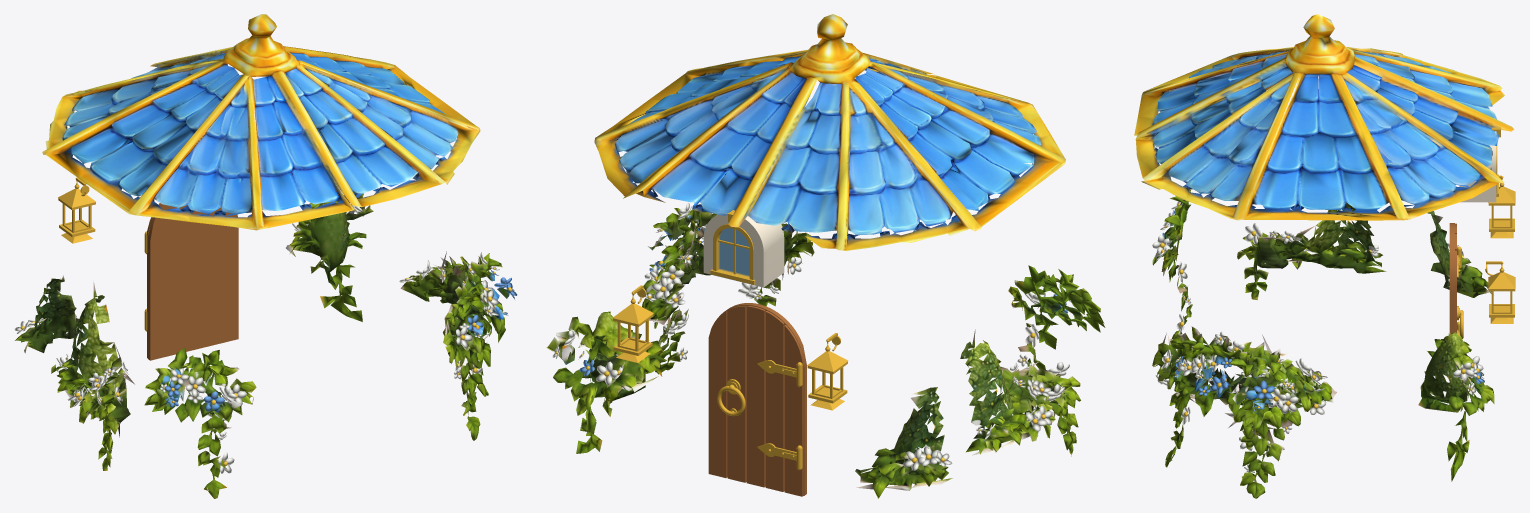
Rendered from HaloDomeHouse_07_fixed.glb.
The picture shows the model from 3 angles, left to right: view 1: azimuth 30°, elevation 25°; view 2: azimuth 150°, elevation 25°; view 3: azimuth 270°, elevation 25°; orthographic projection. The views are drawn at different scales.
Visible parts, largest first — view 1: HaloDomeHouse_07_Roof, Orn_H07_Leaf, HaloDomeHouse_07_PlantsSideL, HaloDomeHouse_07_PlantsBackL, HaloDomeHouse_07_PlantsBackR, HaloDomeHouse_07_PlantsR, HaloDomeHouse_07_PlantsL, HaloDomeHouse_07_PlantsSideR, Orn_H07_LanternL, Orn_PlantsBackL_FlowersWhite, Orn_PlantsBackR_FlowersWhite, Orn_PlantsSideL_FlowersWhite; view 2: HaloDomeHouse_07_Roof, Orn_H07_Leaf, HaloDomeHouse_07_PlantsSideL, HaloDomeHouse_07_PlantsR, HaloDomeHouse_07_PlantsL, HaloDomeHouse_07_PlantsBackL, HaloDomeHouse_07_PlantsSideR, Orn_H07_Dormer_Surround, HaloDomeHouse_07_PlantsBackR, Orn_H07_LanternR, Orn_H07_LanternL, Orn_PlantsSideR_FlowersWhite (+6 smaller); view 3: HaloDomeHouse_07_Roof, HaloDomeHouse_07_PlantsSideR, HaloDomeHouse_07_PlantsBackR, HaloDomeHouse_07_PlantsSideL, HaloDomeHouse_07_PlantsR, HaloDomeHouse_07_PlantsL, HaloDomeHouse_07_PlantsBackL, Orn_PlantsSideR_FlowersWhite, Orn_H07_LanternR, Orn_PlantsBackR_FlowersWhite, Orn_H07_LanternL, Orn_H07_Leaf (+5 smaller).
Part boxes in pixels (x1,y1,x2,y2): HaloDomeHouse_07_Roof: (42,14,480,230); Orn_H07_Leaf: (147,203,238,360); HaloDomeHouse_07_PlantsSideL: (51,282,134,470); HaloDomeHouse_07_PlantsBackL: (144,348,256,498); HaloDomeHouse_07_PlantsBackR: (443,253,514,440); HaloDomeHouse_07_PlantsR: (286,193,373,321); HaloDomeHouse_07_PlantsL: (15,275,79,353); HaloDomeHouse_07_PlantsSideR: (400,251,491,396); Orn_H07_LanternL: (58,177,95,243); Orn_PlantsBackL_FlowersWhite: (160,368,246,473); Orn_PlantsBackR_FlowersWhite: (454,252,499,379); Orn_PlantsSideL_FlowersWhite: (56,354,127,406); HaloDomeHouse_07_Roof: (594,14,1065,250); Orn_H07_Leaf: (708,303,806,496); HaloDomeHouse_07_PlantsSideL: (960,329,1080,456); HaloDomeHouse_07_PlantsR: (546,311,666,453); HaloDomeHouse_07_PlantsL: (855,387,952,498); HaloDomeHouse_07_PlantsBackL: (1008,265,1105,369); HaloDomeHouse_07_PlantsSideR: (642,219,703,374); Orn_H07_Dormer_Surround: (703,213,784,287); HaloDomeHouse_07_PlantsBackR: (648,208,814,306); Orn_H07_LanternR: (613,285,653,362); Orn_H07_LanternL: (807,333,848,410); Orn_PlantsSideR_FlowersWhite: (644,245,693,360); HaloDomeHouse_07_Roof: (1134,14,1514,220); HaloDomeHouse_07_PlantsSideR: (1236,334,1336,498); HaloDomeHouse_07_PlantsBackR: (1152,326,1257,467); HaloDomeHouse_07_PlantsSideL: (1237,202,1386,299); HaloDomeHouse_07_PlantsR: (1418,332,1494,481); HaloDomeHouse_07_PlantsL: (1427,211,1491,297); HaloDomeHouse_07_PlantsBackL: (1152,189,1192,339); Orn_PlantsSideR_FlowersWhite: (1239,357,1327,473); Orn_H07_LanternR: (1485,261,1515,323); Orn_PlantsBackR_FlowersWhite: (1155,331,1251,424); Orn_H07_LanternL: (1488,175,1515,238); Orn_H07_Leaf: (1449,223,1456,404).
Bounding box in the file's own units: 19.78 × 18.87 × 16.59.
28 materials, 7 textured.
